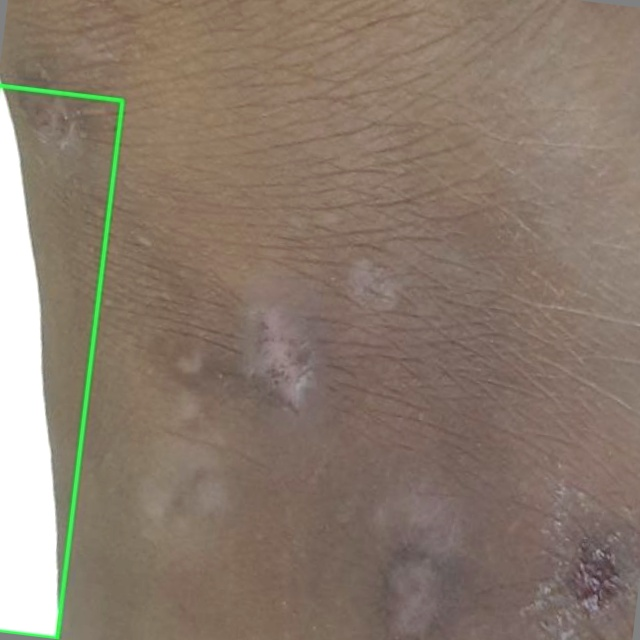Eczema: (0, 85, 122, 638)
